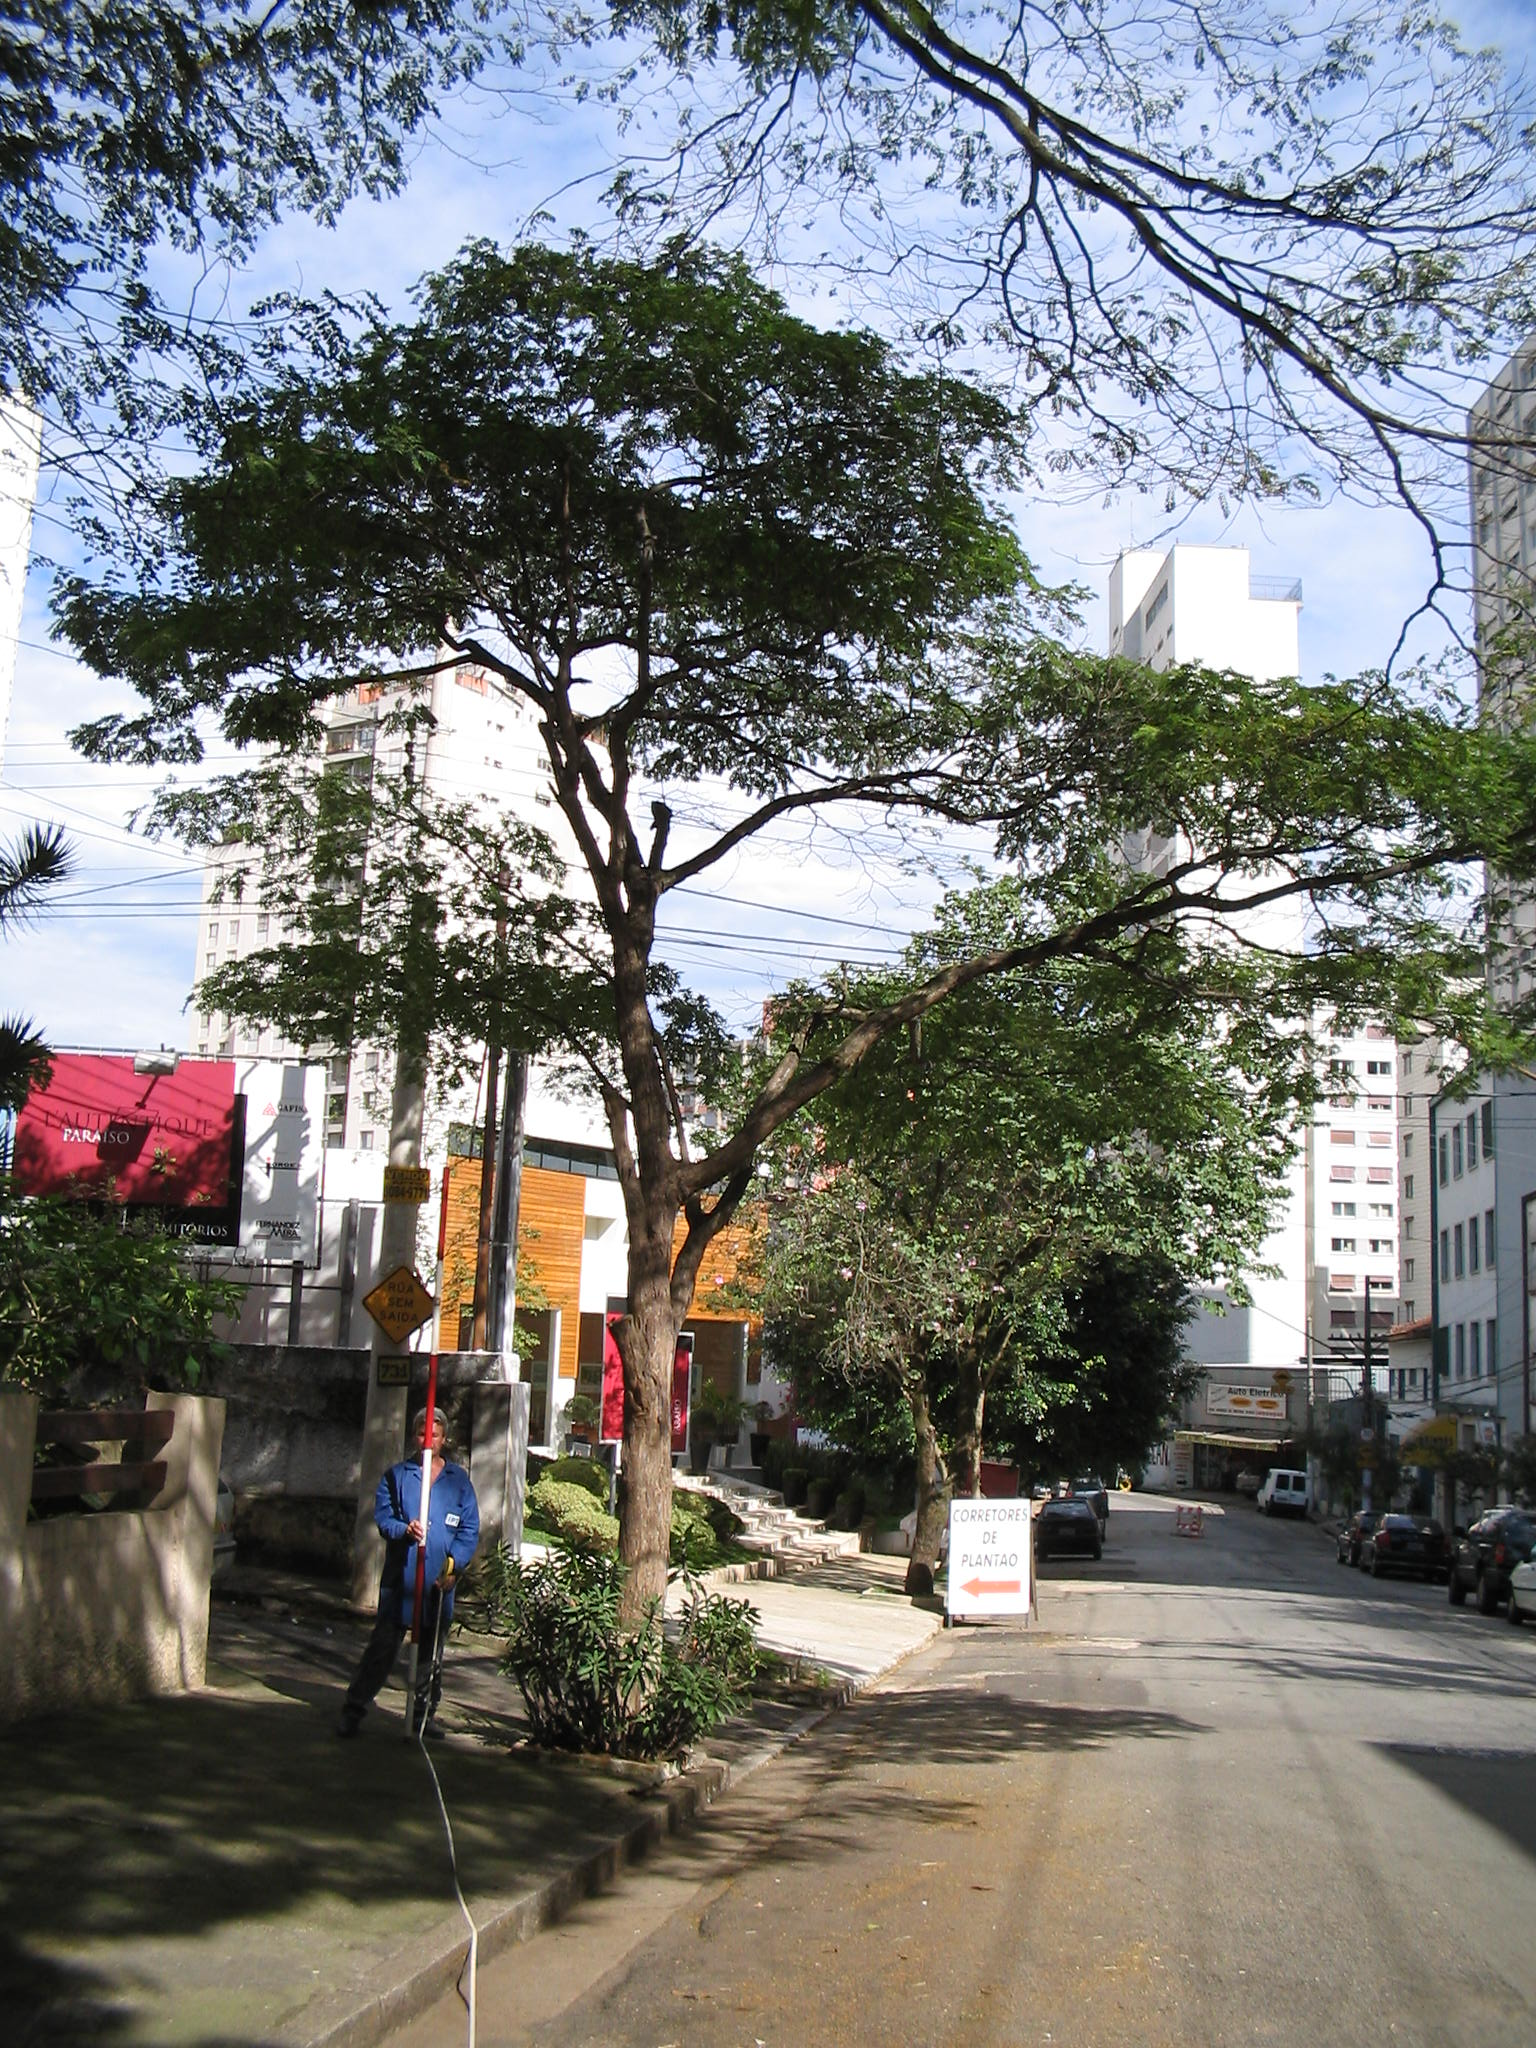crown: (61, 229, 1536, 1080)
stem: (541, 1316, 733, 1753)
stick: (386, 1166, 478, 1742)
tree: (52, 216, 1533, 1767)
